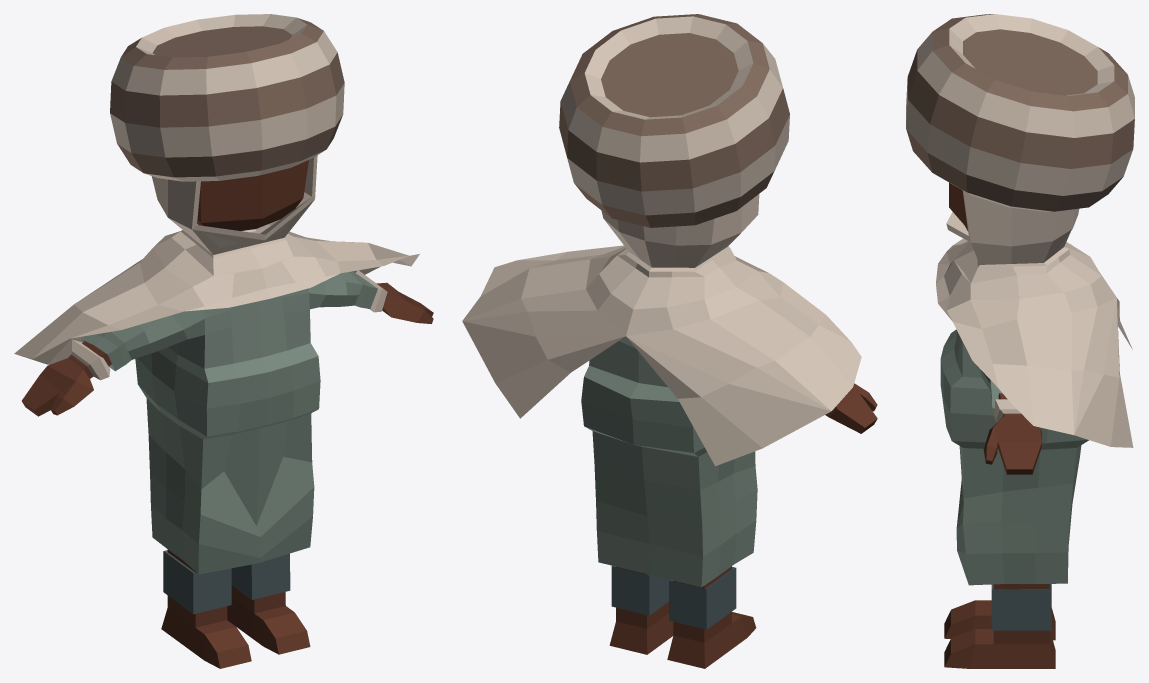
Rendered from Tuaregue2.fbx.
3 renders of one model, left to right at view 1: azimuth 30°, elevation 25°; view 2: azimuth 150°, elevation 25°; view 3: azimuth 270°, elevation 25°, orthographic.
Visible parts, largest first — view 1: Roupa.001, Torus.001, Manto.001, Corpo.001, Bracelete; view 2: Manto.001, Torus.001, Roupa.001, Corpo.001; view 3: Torus.001, Manto.001, Roupa.001, Corpo.001, Bracelete.
Part boxes in pixels (x1=…): Roupa.001: x1=81, y1=271, x2=377, y2=574; Torus.001: x1=110, y1=14, x2=344, y2=181; Manto.001: x1=14, y1=155, x2=419, y2=364; Corpo.001: x1=22, y1=160, x2=433, y2=668; Bracelete: x1=71, y1=270, x2=387, y2=380; Manto.001: x1=462, y1=194, x2=861, y2=466; Torus.001: x1=559, y1=14, x2=789, y2=227; Roupa.001: x1=581, y1=336, x2=757, y2=587; Corpo.001: x1=609, y1=383, x2=877, y2=668; Torus.001: x1=906, y1=14, x2=1134, y2=211; Manto.001: x1=936, y1=190, x2=1133, y2=447; Roupa.001: x1=940, y1=329, x2=1088, y2=585; Corpo.001: x1=944, y1=182, x2=1055, y2=668; Bracelete: x1=994, y1=399, x2=1020, y2=421.
Bounding box in the file's own units: 425 × 618 × 211.
